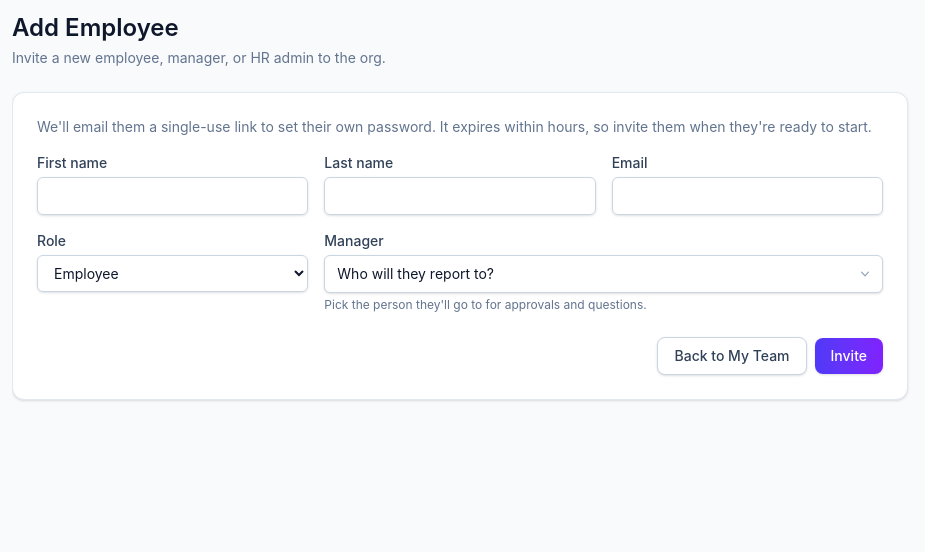
AddEmployeePage › shows the generated invite link right on the page after a successful invite
The width and height of the screenshot is (925, 552).
In the field labelled "First name": (173, 196) [37,177,308,215], type "New"
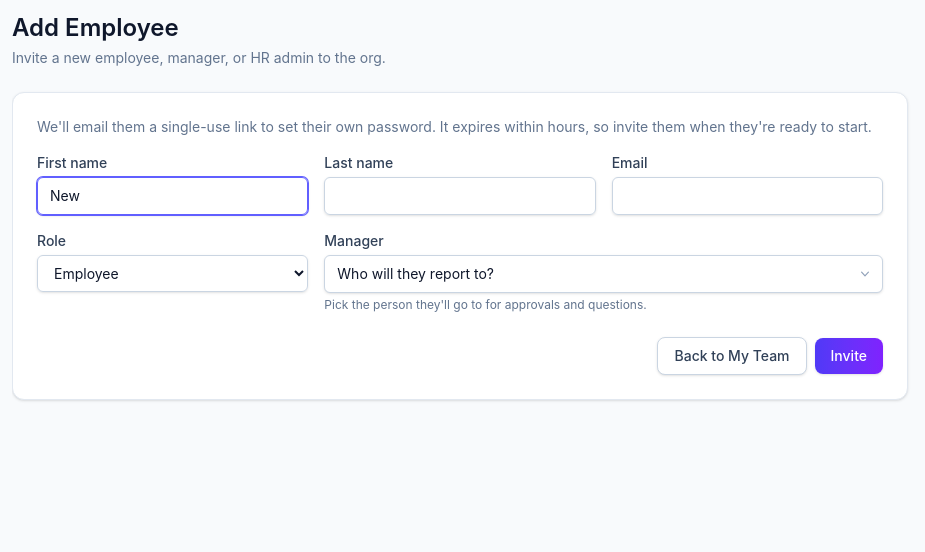
In the field labelled "Last name": (460, 196) [324,177,596,215], type "Hire"
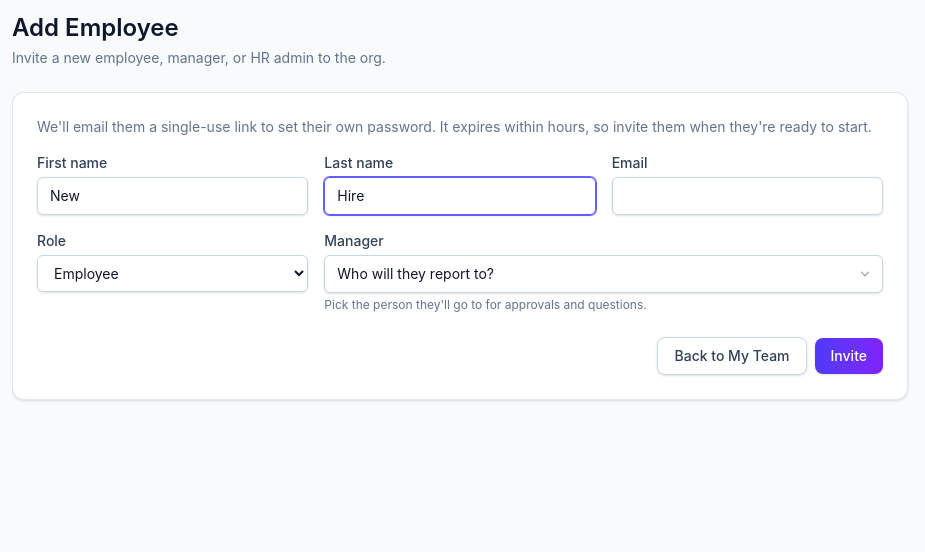
In the field labelled "Email": (747, 196) [612,177,883,215], type "new@example.com"
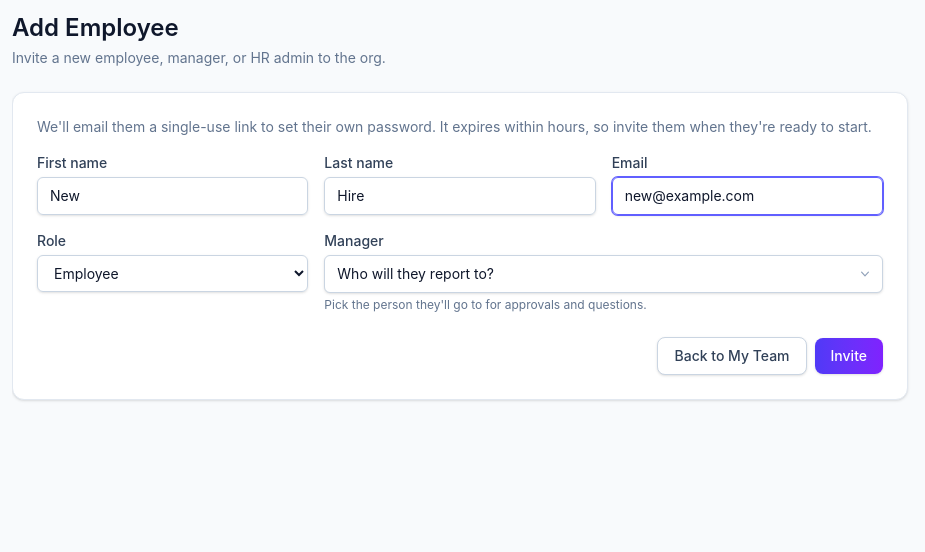
Select "HR Admin" in the dropdown labelled "Role": (173, 274) [37,255,308,292]
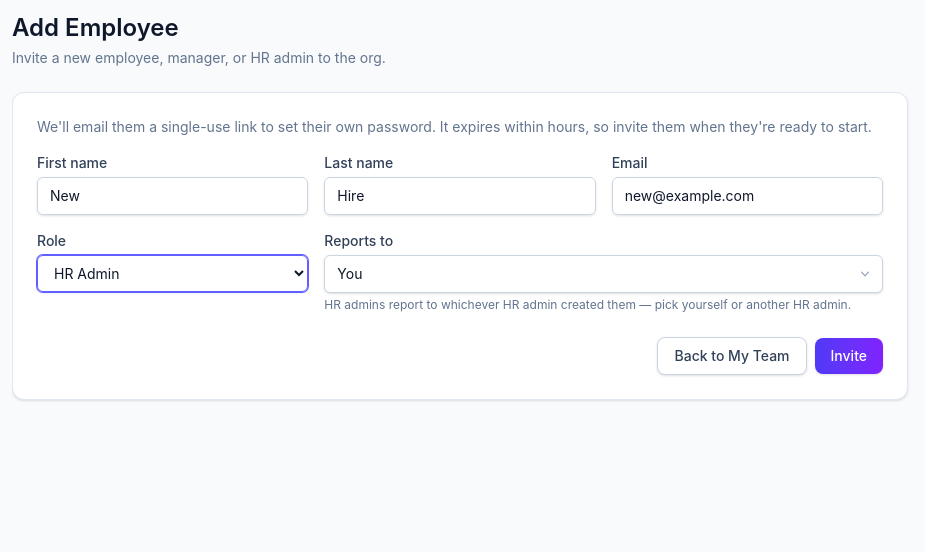
Click the button "Invite": (849, 356) [814,338,883,374]
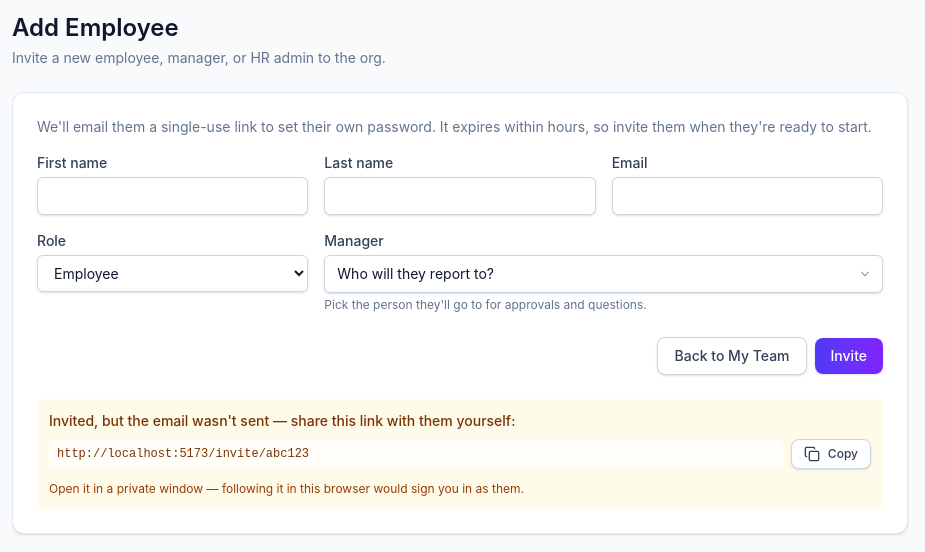
Expected: the text "http://localhost:5173/invite/abc123" is shown, [49,440,783,468]
